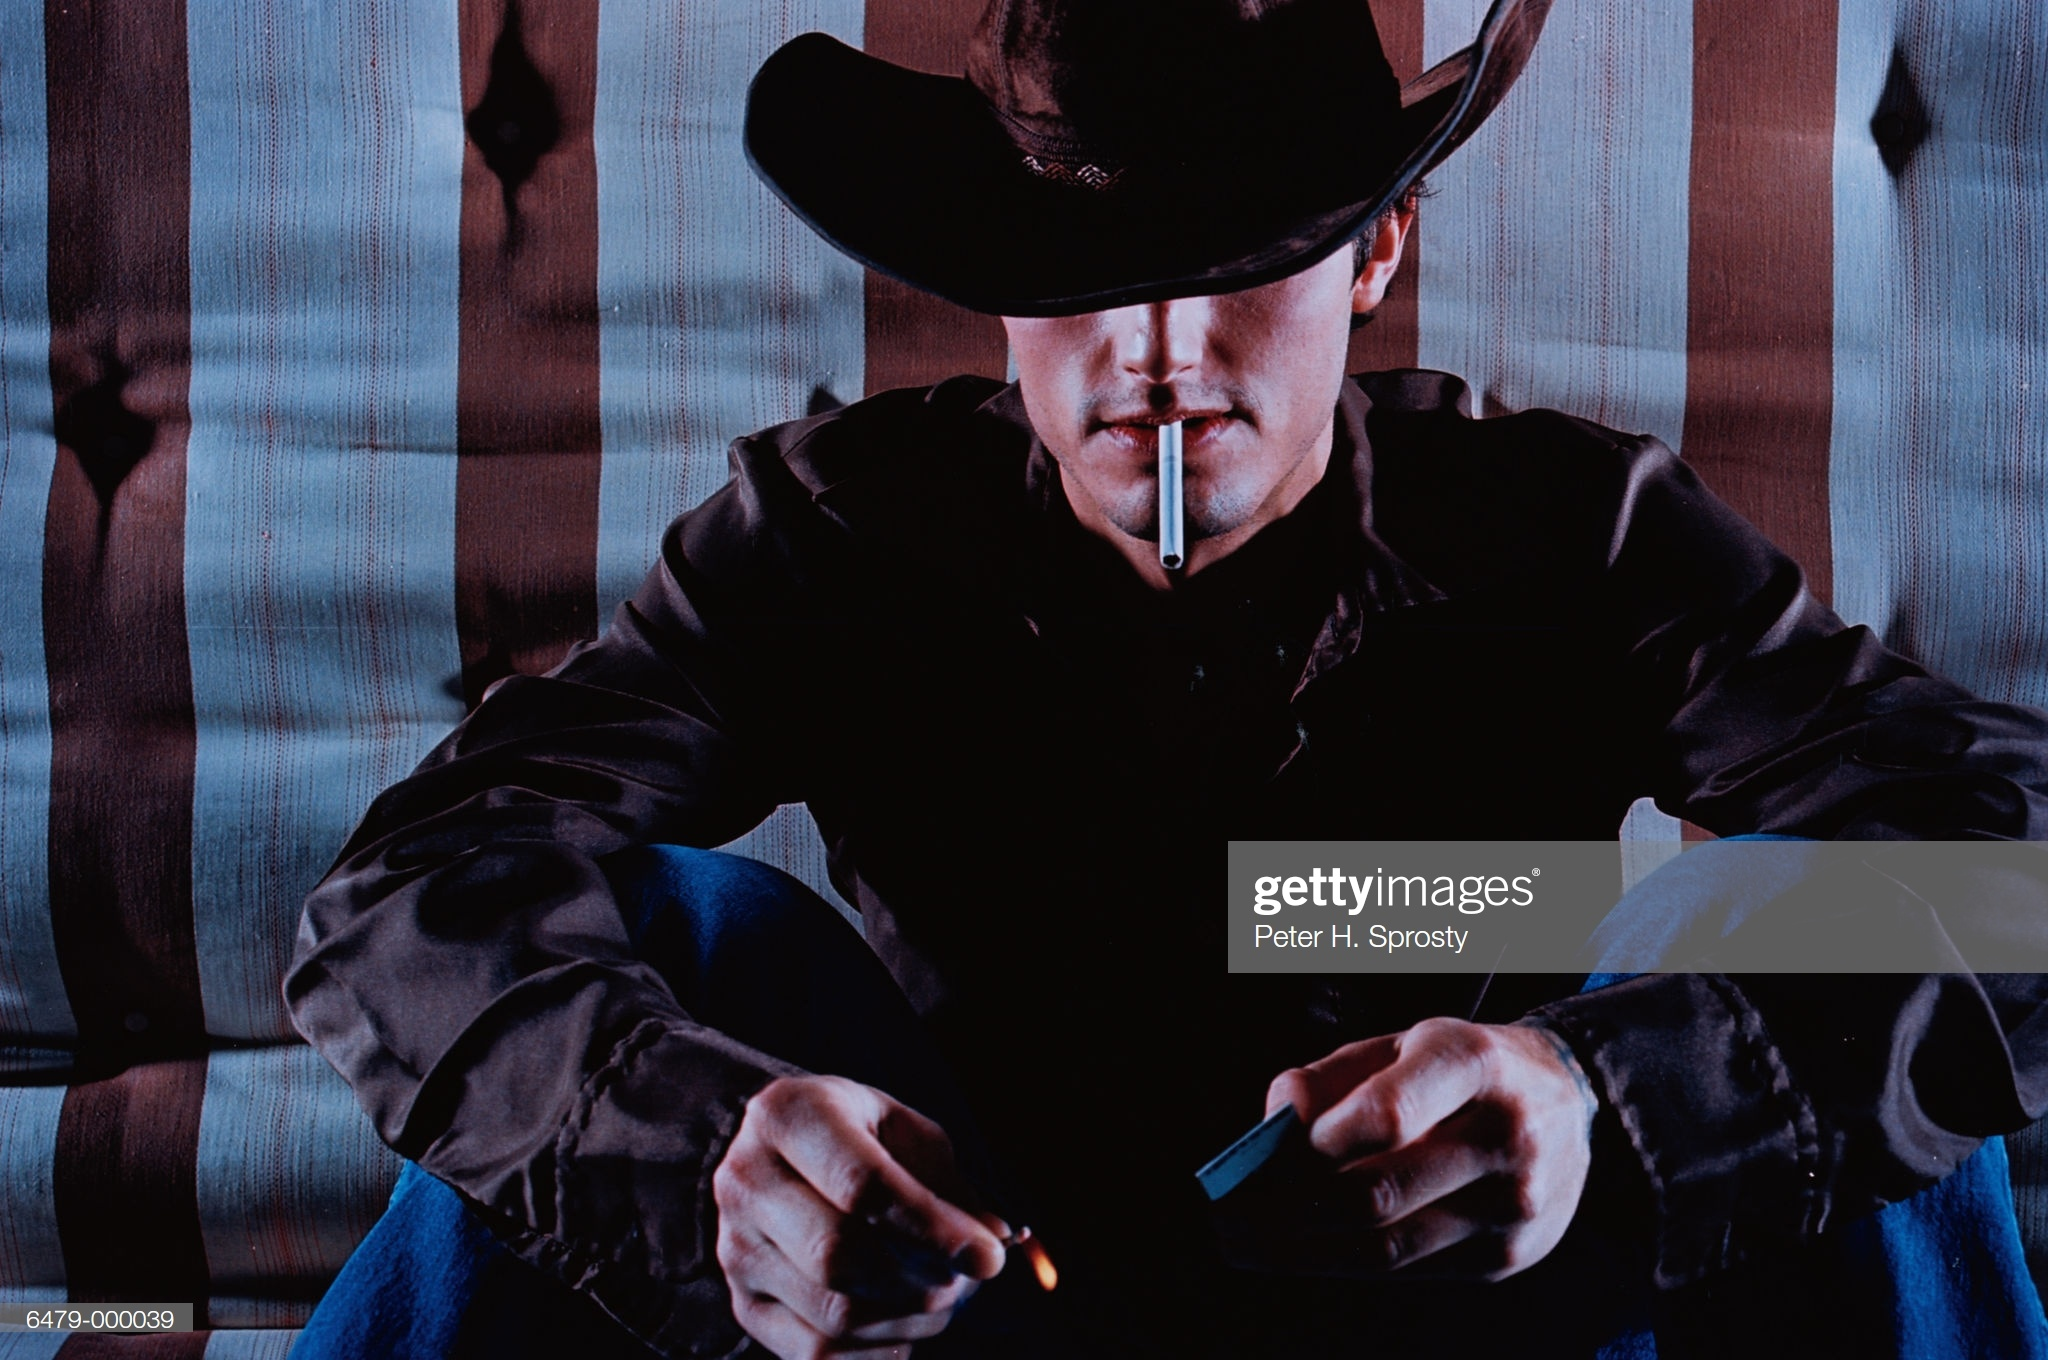sigaretta: (1142, 417, 1185, 565)
